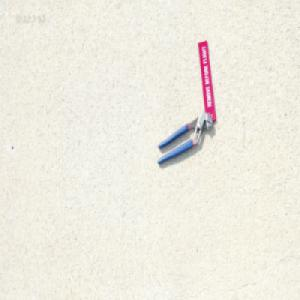Label: (197, 38, 216, 120)
Pliers: (156, 111, 211, 165)
